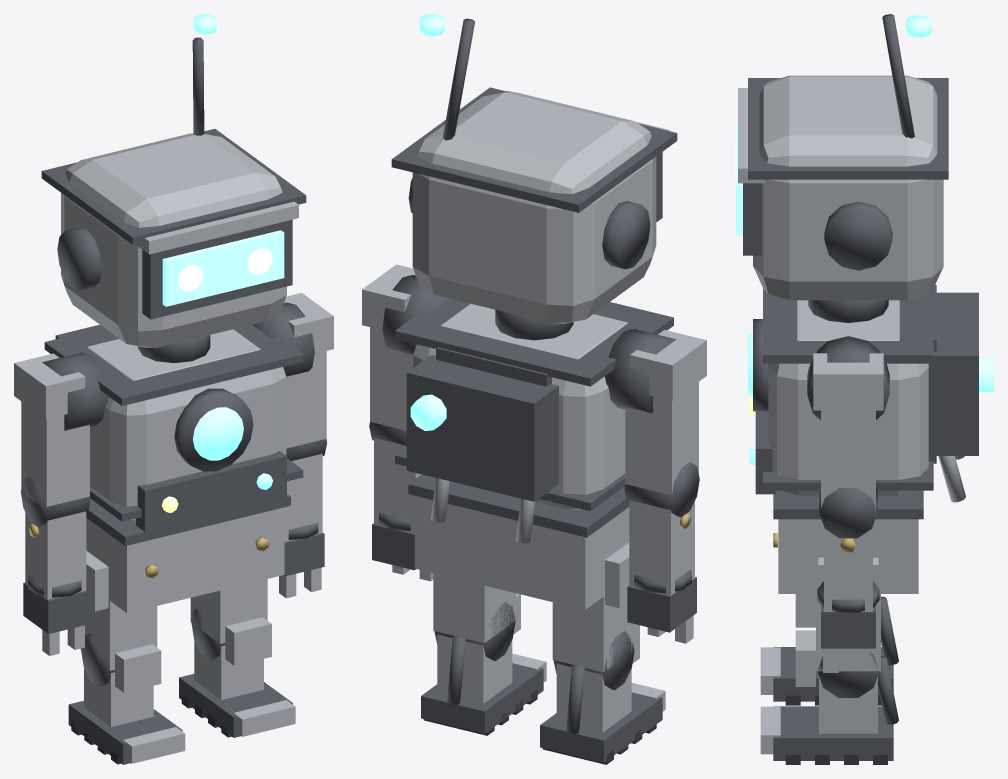
Rendered from character.glb.
The picture shows the model from 3 angles, left to right: view 1: azimuth 30°, elevation 25°; view 2: azimuth 150°, elevation 25°; view 3: azimuth 270°, elevation 25°; orthographic projection. The views are drawn at different scales.
Visible parts, largest first — view 1: bot_head, bot_torso, bot_hips, bot_chest_seam_0.09, bot_belly, bot_arm_l, bot_visor, bot_visor_recess, bot_forearm_l, bot_crown_seam, bot_thigh_l, bot_arm_r (+30 smaller); view 2: bot_head, bot_pack, bot_hips, bot_torso, bot_chest_seam_0.09, bot_arm_l, bot_crown_seam, bot_forearm_l, bot_waist_seam, bot_thigh_l, bot_thigh_r, bot_foot_r (+27 smaller); view 3: bot_head, bot_torso, bot_pack, bot_hips, bot_chest_seam_0.09, bot_crown_seam, bot_arm_r, bot_foot_r, bot_pauldron_r, bot_ear_0.022, bot_forearm_r, bot_waist_seam (+25 smaller).
Part boxes in pixels (x1,y1,x2,y2): bot_head: (61, 133, 286, 347); bot_torso: (87, 329, 286, 520); bot_hips: (86, 507, 284, 613); bot_chest_seam_0.09: (44, 324, 303, 405); bot_belly: (136, 451, 286, 531); bot_arm_l: (21, 401, 89, 509); bot_visor: (162, 230, 284, 306); bot_visor_recess: (142, 219, 292, 319); bot_forearm_l: (25, 511, 86, 599); bot_crown_seam: (41, 129, 306, 244); bot_thigh_l: (80, 588, 157, 670); bot_arm_r: (286, 351, 326, 448); bot_head: (412, 92, 656, 323); bot_pack: (406, 355, 558, 501); bot_hips: (415, 496, 629, 609); bot_torso: (413, 303, 627, 509); bot_chest_seam_0.09: (395, 298, 673, 386); bot_arm_l: (625, 382, 698, 495); bot_crown_seam: (391, 87, 677, 212); bot_forearm_l: (629, 500, 694, 595); bot_waist_seam: (408, 474, 629, 537); bot_thigh_l: (552, 582, 635, 672); bot_thigh_r: (433, 573, 516, 643); bot_foot_r: (421, 664, 543, 733); bot_head: (753, 75, 943, 300); bot_torso: (768, 300, 928, 495); bot_pack: (928, 292, 978, 455); bot_hips: (778, 519, 918, 593); bot_chest_seam_0.09: (763, 288, 933, 363); bot_crown_seam: (748, 78, 948, 179); bot_arm_r: (821, 410, 875, 507); bot_foot_r: (773, 706, 893, 760); bot_pauldron_r: (813, 353, 883, 410); bot_ear_0.022: (824, 201, 892, 270); bot_forearm_r: (824, 526, 872, 611); bot_waist_seam: (773, 490, 923, 519).
Bounding box in the file's own units: 0.0649 × 0.1433 × 0.0459.
